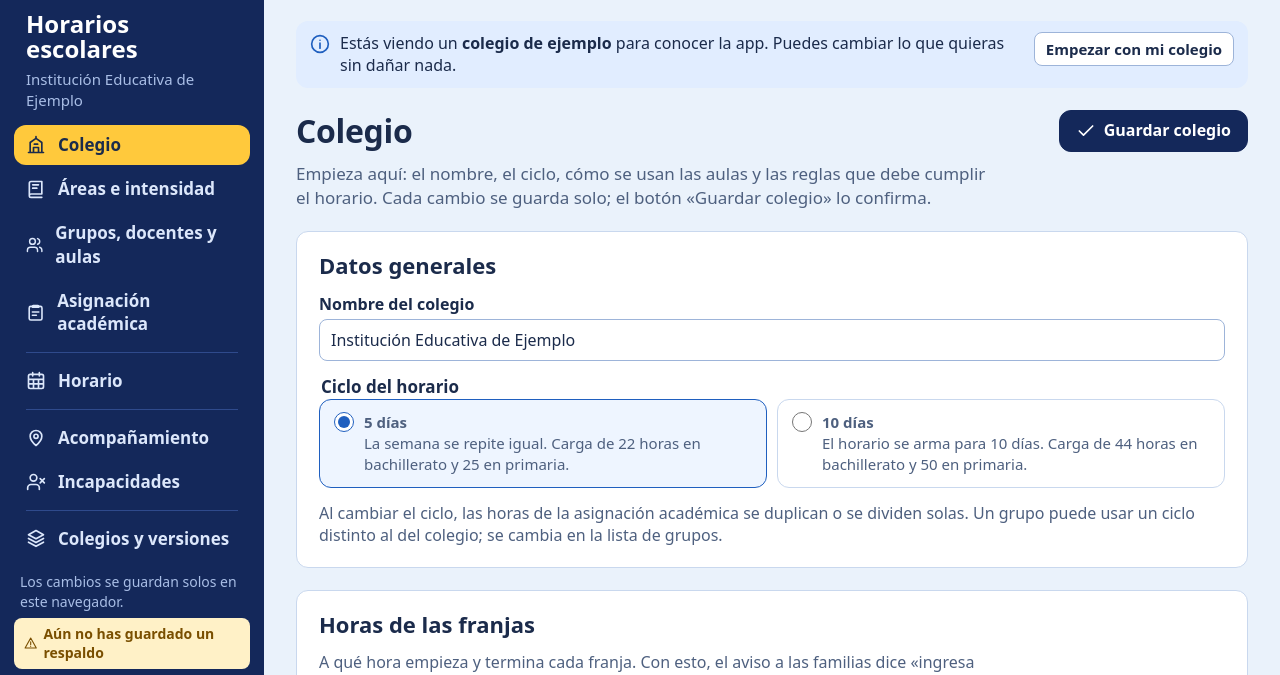
Test: acompañamiento en descansos › agrega las zonas comunes, reparte los turnos y deja cambiarlos a mano
Step 1. Click the button "Acompañamiento" → click(132, 438), box [14,418,250,458]
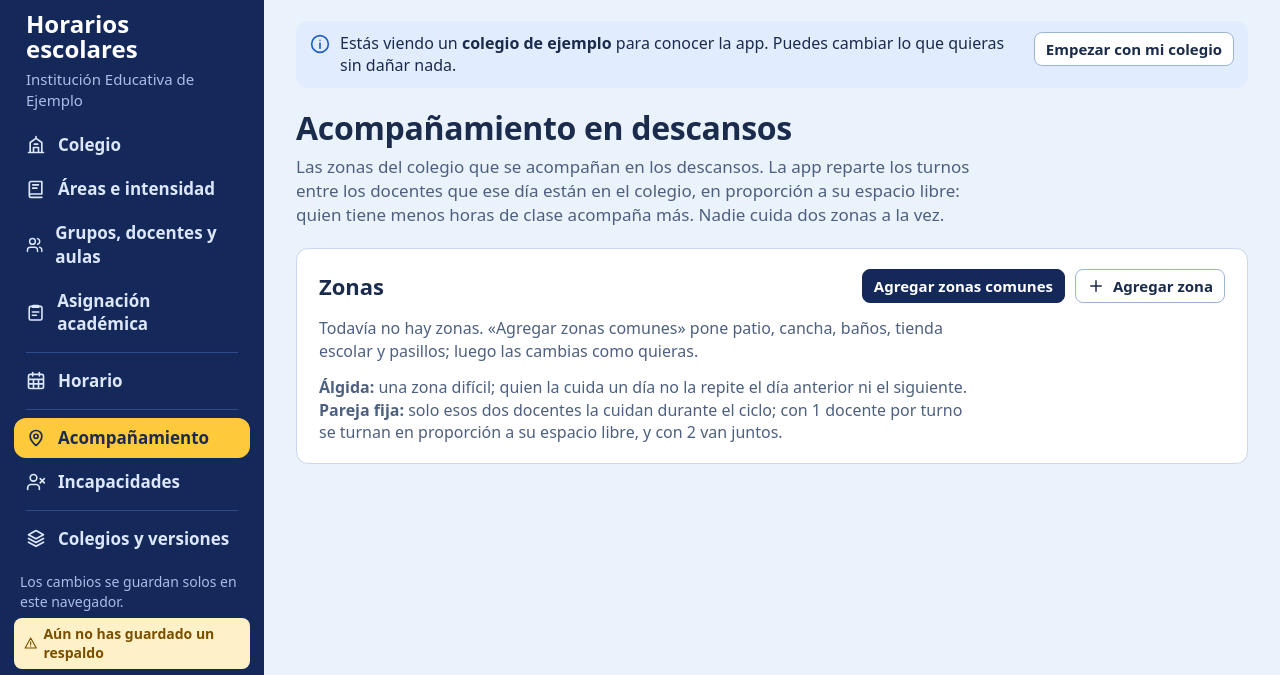
Step 2. Click the button "Agregar zonas comunes" → click(963, 286), box [862,269,1065,303]
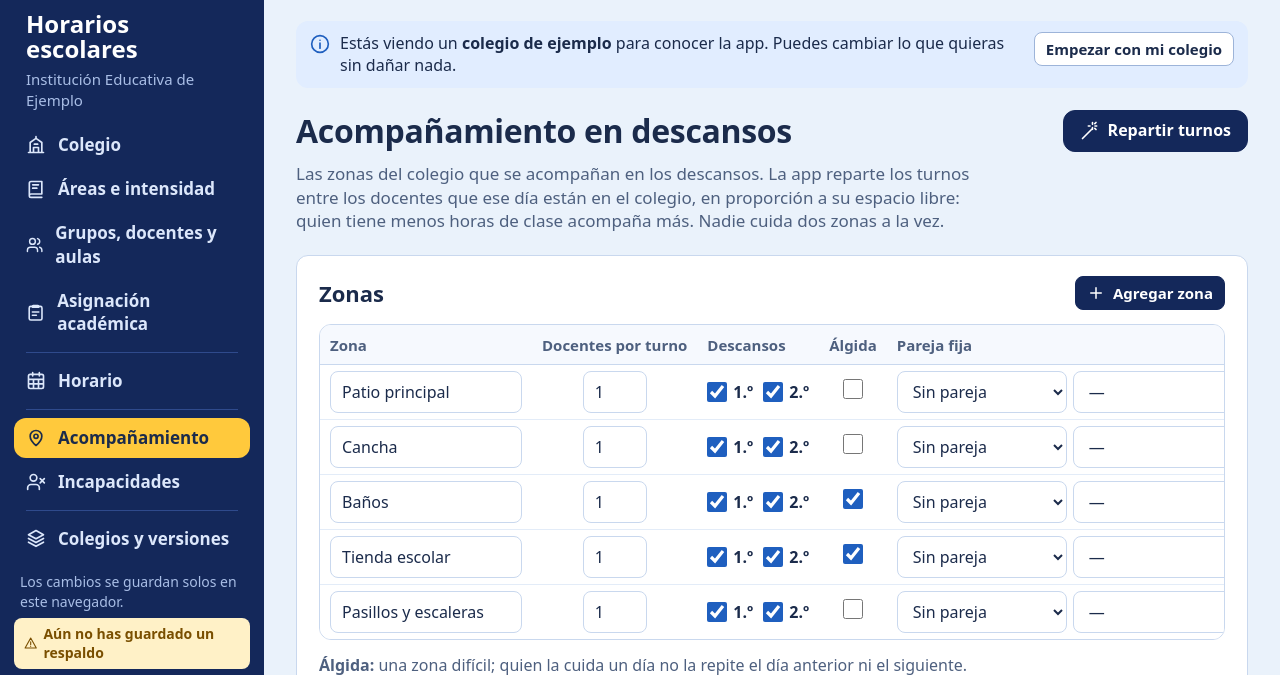
Now the checkbox named "Baños es álgida" is checked, box [843,490,863,510]
Step 3. Click the button "Repartir turnos" → click(1155, 131), box [1063,110,1248,152]
(page scrolled)
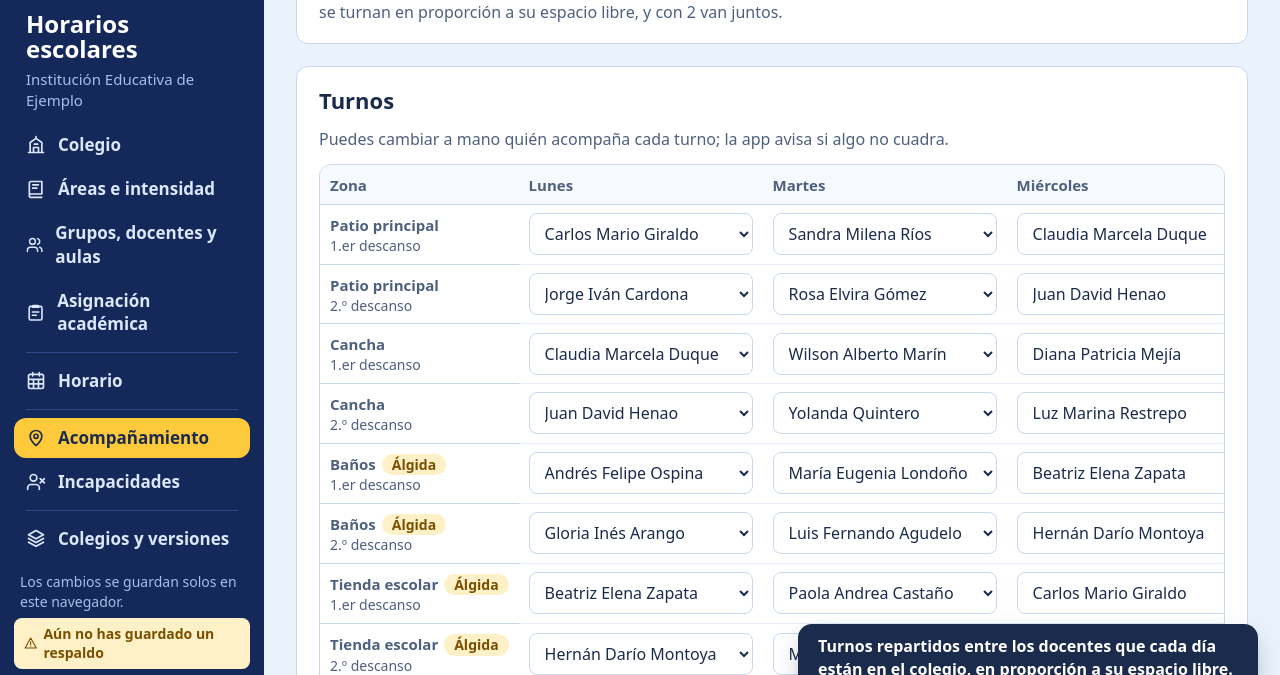
// Se pone a la misma persona en dos zonas a la vez: la app lo avisa.
Step 4. Select "Carlos Mario Giraldo" in the dropdown named "Cancha, Lunes, 1.er descanso" → (641, 354), box [529,333,753,375]
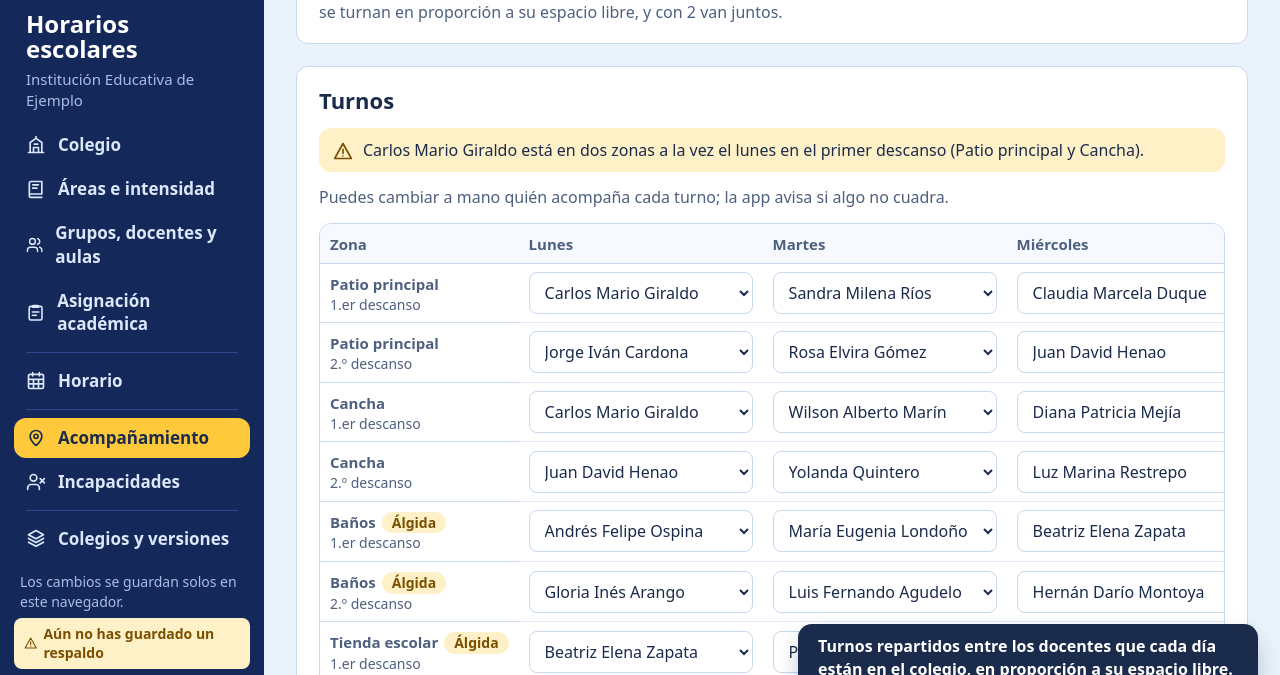
Now the text "está en dos zonas a la vez el lunes en el primer descanso" is shown, box [363,139,1144,161]
